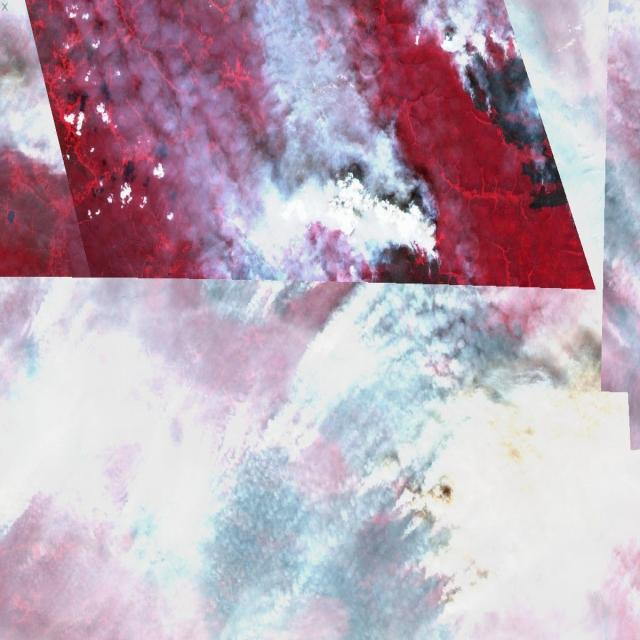fire: (351, 475, 479, 640), (194, 232, 317, 330), (358, 199, 447, 290), (452, 36, 528, 124), (18, 321, 60, 395)
